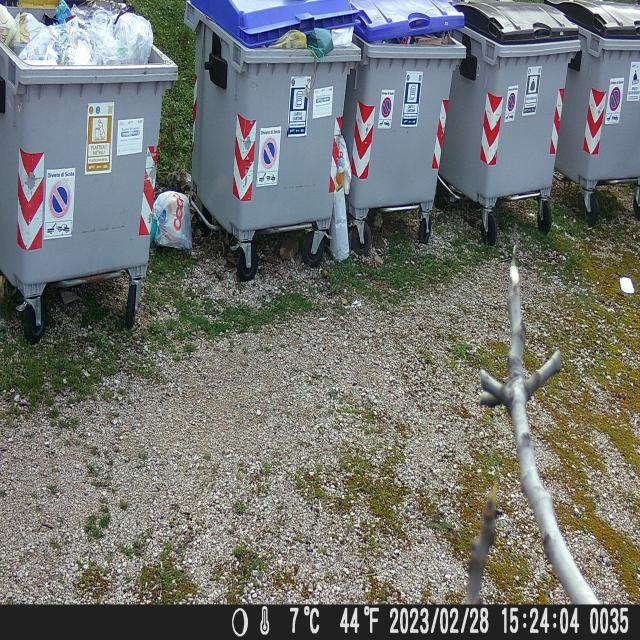garbage: (2, 2, 156, 82), (266, 14, 358, 64), (149, 185, 197, 258), (330, 140, 352, 262), (383, 23, 462, 47)
